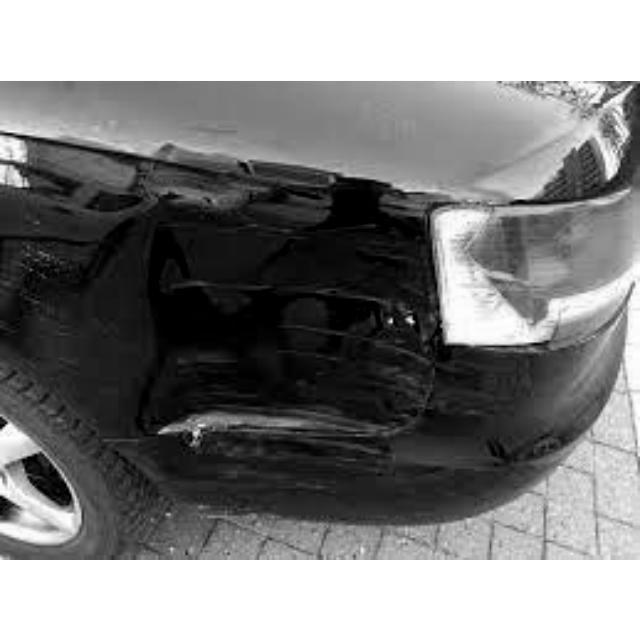quaterpanel-dent: (1, 157, 416, 465)
